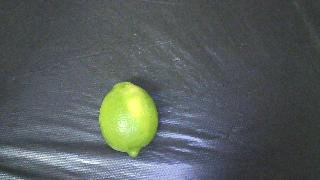LOCAL: (99, 82, 158, 157)
